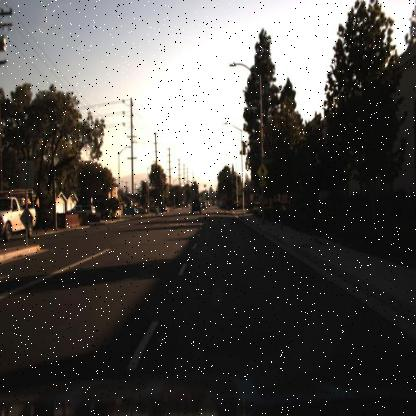car: (0, 189, 37, 243), (64, 202, 102, 221), (62, 197, 98, 217), (188, 190, 204, 218), (122, 204, 142, 217), (158, 201, 168, 216)
